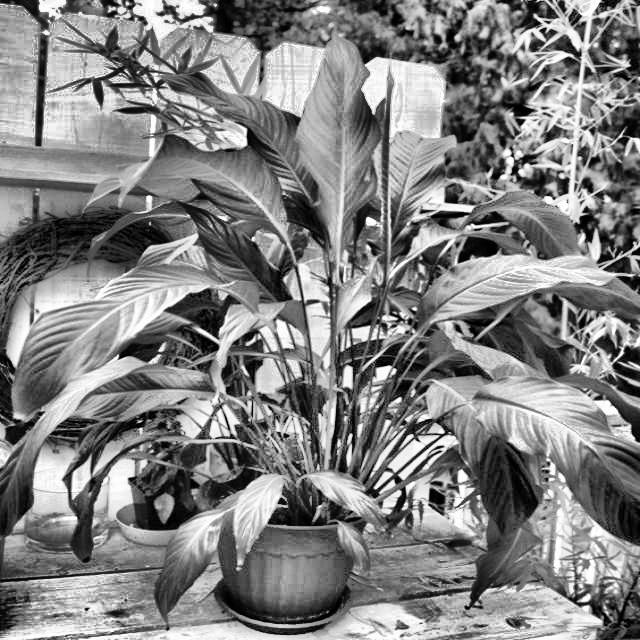plants: (64, 64, 594, 636), (292, 460, 388, 590), (234, 462, 284, 578)
